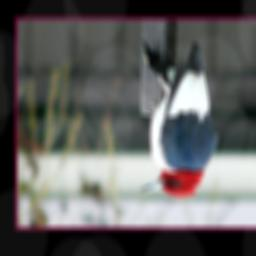Woodpecker: (138, 36, 219, 202)
